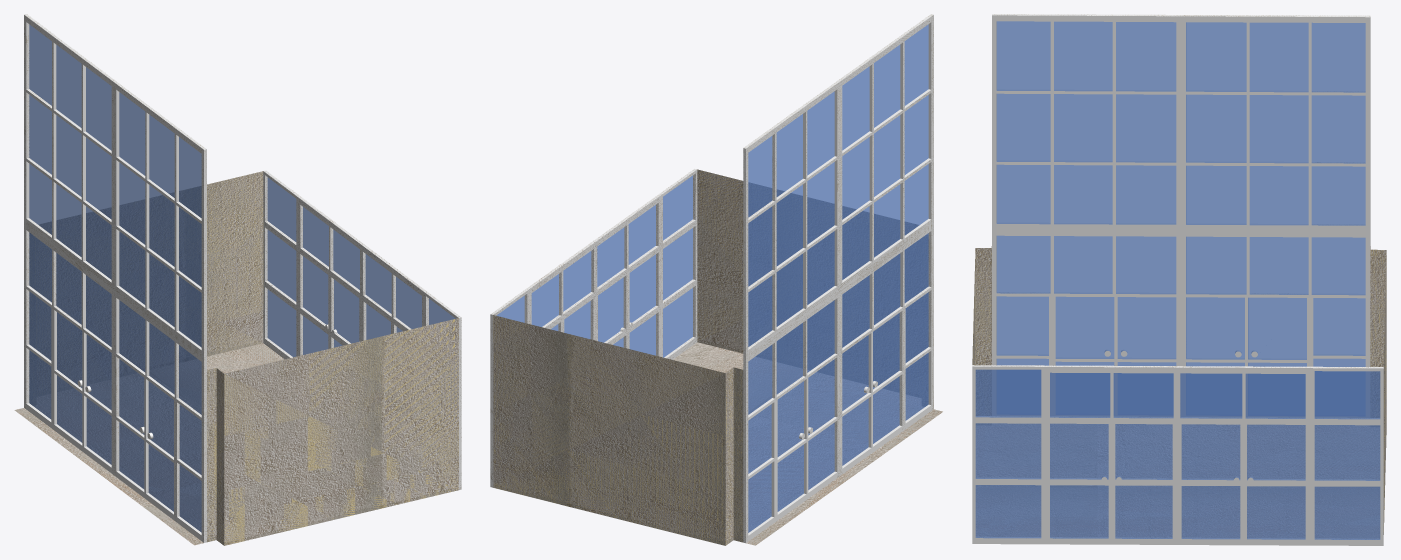
File: COM026.obj
The picture shows the model from 3 angles, left to right: view 1: azimuth 30°, elevation 25°; view 2: azimuth 150°, elevation 25°; view 3: azimuth 270°, elevation 25°; orthographic projection. The views are drawn at different scales.
Visible parts, largest first — view 1: Mesh41 COM026 Model, Mesh1 puertagrandesola1 COM026 Model, Mesh31 puertanueva1 COM026 Model; view 2: Mesh41 COM026 Model, Mesh1 puertagrandesola1 COM026 Model, Mesh31 puertanueva1 COM026 Model; view 3: Mesh1 puertagrandesola1 COM026 Model, Mesh31 puertanueva1 COM026 Model, Mesh41 COM026 Model.
Boxes of the visible parts, bbox=[...] form: Mesh41 COM026 Model: bbox=[14, 171, 458, 545]; Mesh1 puertagrandesola1 COM026 Model: bbox=[24, 14, 206, 542]; Mesh31 puertanueva1 COM026 Model: bbox=[263, 170, 461, 489]; Mesh41 COM026 Model: bbox=[493, 169, 942, 545]; Mesh1 puertagrandesola1 COM026 Model: bbox=[743, 14, 933, 543]; Mesh31 puertanueva1 COM026 Model: bbox=[490, 168, 697, 487]; Mesh1 puertagrandesola1 COM026 Model: bbox=[992, 14, 1370, 417]; Mesh31 puertanueva1 COM026 Model: bbox=[972, 365, 1383, 545]; Mesh41 COM026 Model: bbox=[972, 246, 1386, 538].
Size of the model in its own units: 4.77 by 6.85 by 6.35.
6 materials, 3 textured.
